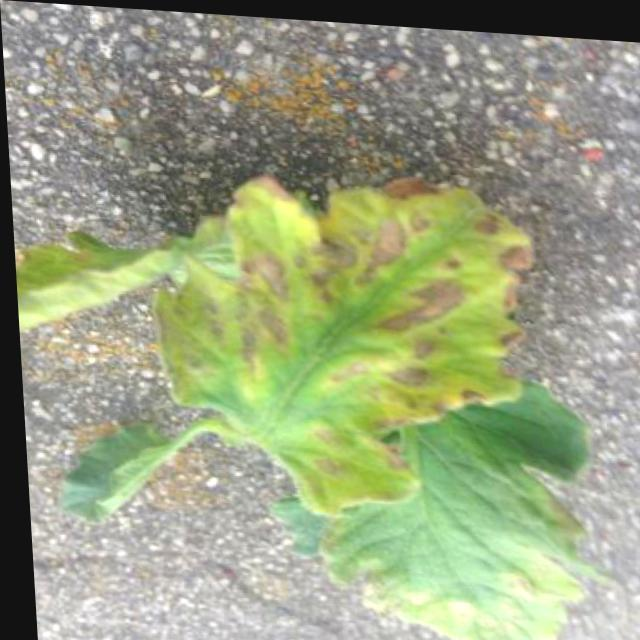Tomato mold leaf: (126, 132, 544, 521)
